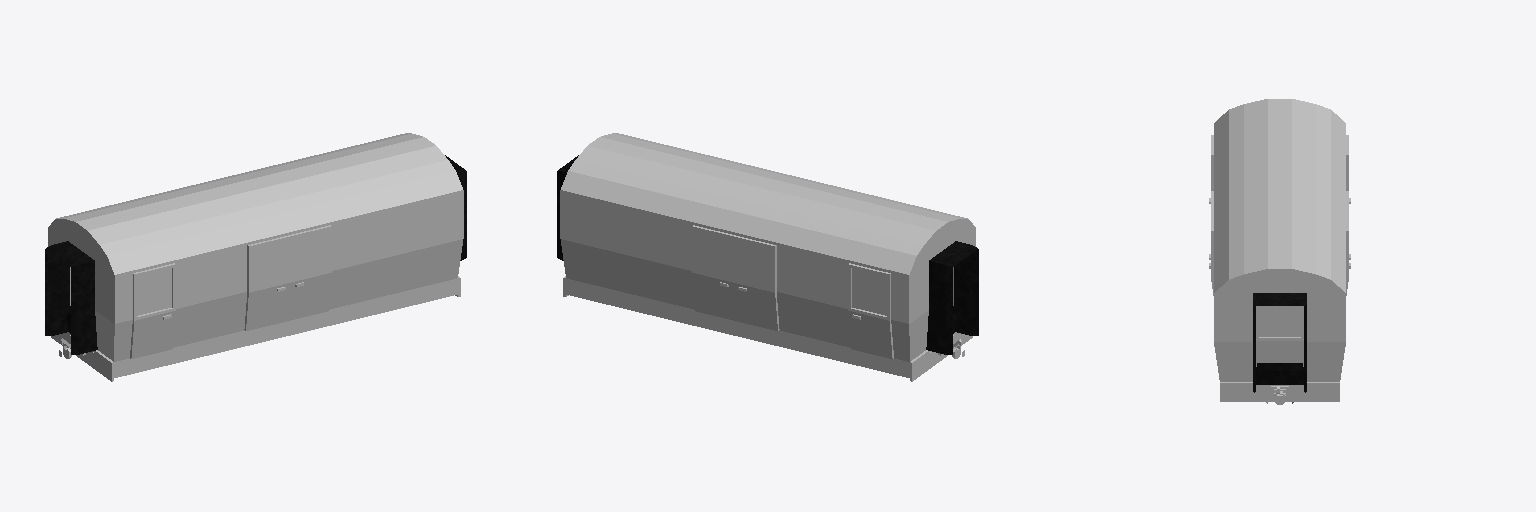
3 views of the same model, side by side, from view 1: azimuth 30°, elevation 25°; view 2: azimuth 150°, elevation 25°; view 3: azimuth 270°, elevation 25° (orthographic).
Parts seen in each view (by area): view 1: FRAME_body, FRAME_corridor.001, DOOR_6_EXTERNAL_TL_-0.6875_X_CG_cargodoorleft, DOOR_1_EXTERNAL, DOOR_3_EXTERNAL_TL_0.6875_X_CG_cargodoorleft, FRAME_end1; view 2: FRAME_body, FRAME_corridor.001, DOOR_5_EXTERNAL_TL_-0.6875_X_CG_cargodoorright, DOOR_2_EXTERNAL, DOOR_4_EXTERNAL_TL_0.6875_X_CG_cargodoorright, FRAME_end1; view 3: FRAME_body, DOOR_8_CONNECTINGTL_-0.6875_Z, FRAME_end2, FRAME_corridor.002, COUPLED_REAR_4.
Boxes of the visible parts, box(x1,y1,x2,y2) form: FRAME_body: box(48, 133, 463, 377); FRAME_corridor.001: box(45, 241, 97, 354); DOOR_6_EXTERNAL_TL_-0.6875_X_CG_cargodoorleft: box(244, 235, 290, 330); DOOR_1_EXTERNAL: box(130, 263, 175, 358); DOOR_3_EXTERNAL_TL_0.6875_X_CG_cargodoorleft: box(288, 225, 331, 320); FRAME_end1: box(51, 332, 113, 381); FRAME_body: box(560, 133, 975, 377); FRAME_corridor.001: box(926, 241, 978, 354); DOOR_5_EXTERNAL_TL_-0.6875_X_CG_cargodoorright: box(733, 235, 779, 330); DOOR_2_EXTERNAL: box(848, 263, 893, 358); DOOR_4_EXTERNAL_TL_0.6875_X_CG_cargodoorright: box(692, 225, 735, 320); FRAME_end1: box(910, 332, 972, 381); FRAME_body: box(1214, 99, 1345, 381); DOOR_8_CONNECTINGTL_-0.6875_Z: box(1256, 306, 1303, 366); FRAME_end2: box(1220, 382, 1339, 401); FRAME_corridor.002: box(1253, 293, 1306, 392); COUPLED_REAR_4: box(1256, 363, 1303, 384).
Bounding box in the file's own units: 9.5 × 3.31 × 2.94.
Materials: 6 (1 with a texture image).